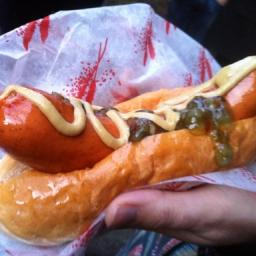hotdog: (0, 77, 147, 168), (212, 61, 256, 123)
